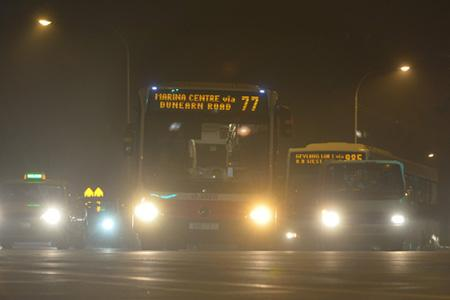bus: (120, 81, 295, 252), (282, 141, 441, 251)
car: (312, 158, 414, 253), (1, 170, 88, 251), (63, 192, 126, 249)
